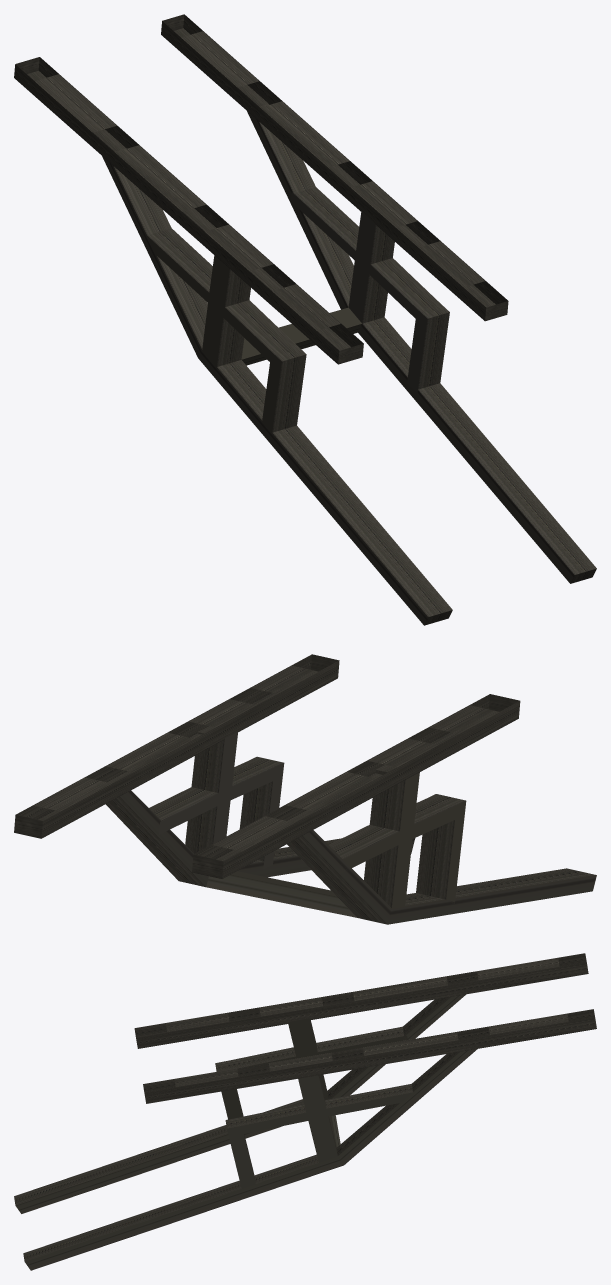
Rendered from cube.3292_lev3.glb.
3 views of the same model, one above another, from view 1: azimuth 30°, elevation 25°; view 2: azimuth 150°, elevation 25°; view 3: azimuth 270°, elevation 25° (orthographic). The views are drawn at different scales.
Visible parts, largest first — view 1: cube.3292_lev3; view 2: cube.3292_lev3; view 3: cube.3292_lev3.
Boxes of the visible parts, x1,y1,x2,y2 form: cube.3292_lev3: (14, 14, 596, 625); cube.3292_lev3: (14, 654, 596, 924); cube.3292_lev3: (14, 953, 596, 1270).
Bounding box in the file's own units: 1.34 × 1.79 × 3.98.
Materials: 1 (1 with a texture image).
